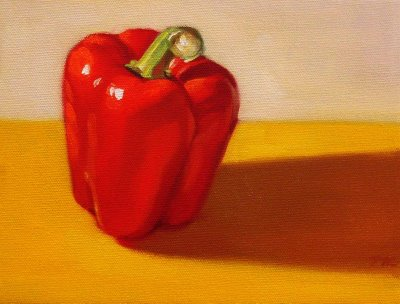capsicum: (62, 25, 240, 238)
